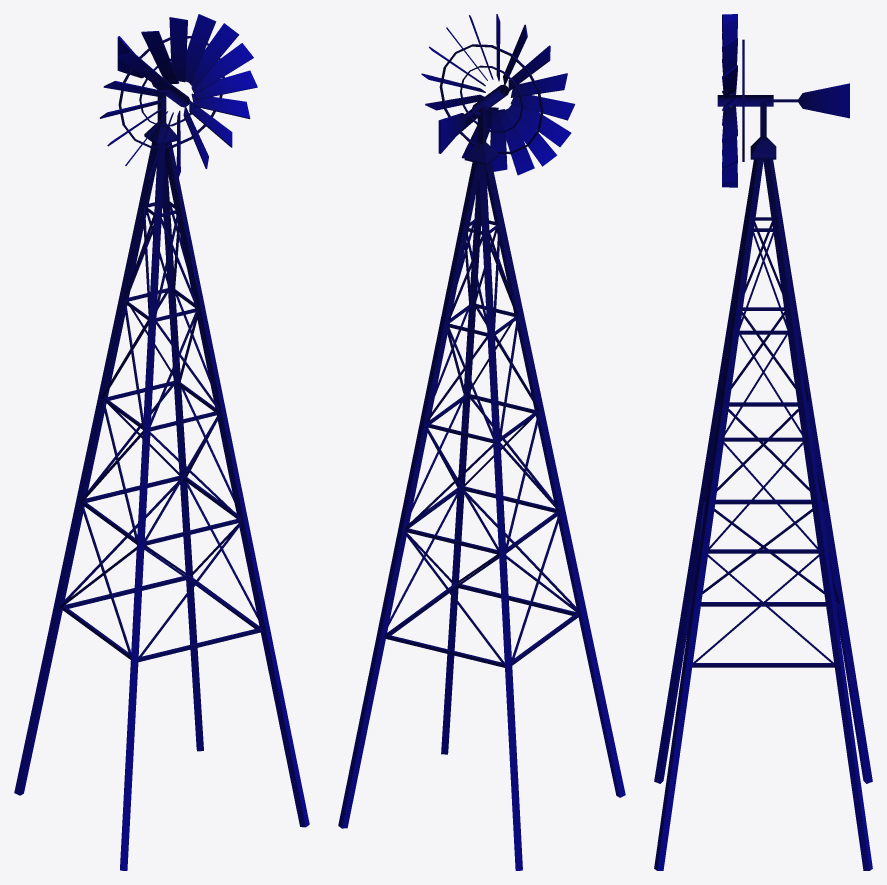
Rendered from buildings-farm-metalwindmill_v1.fbx.
The picture shows the model from 3 angles, left to right: view 1: azimuth 30°, elevation 25°; view 2: azimuth 150°, elevation 25°; view 3: azimuth 270°, elevation 25°; orthographic projection. The views are drawn at different scales.
Parts seen in each view (by area): view 1: MetalWindmill_refl, MetalWindmill_propeller; view 2: MetalWindmill_refl, MetalWindmill_propeller; view 3: MetalWindmill_refl, MetalWindmill_propeller.
Boxes of the visible parts, box(x1,y1,x2,y2) form: MetalWindmill_refl: box(14, 36, 309, 870); MetalWindmill_propeller: box(100, 14, 257, 179); MetalWindmill_refl: box(338, 44, 625, 870); MetalWindmill_propeller: box(421, 14, 574, 175); MetalWindmill_refl: box(654, 39, 872, 870); MetalWindmill_propeller: box(722, 14, 737, 187).
Bounding box in the file's own units: 6.56 × 26.61 × 6.56.
